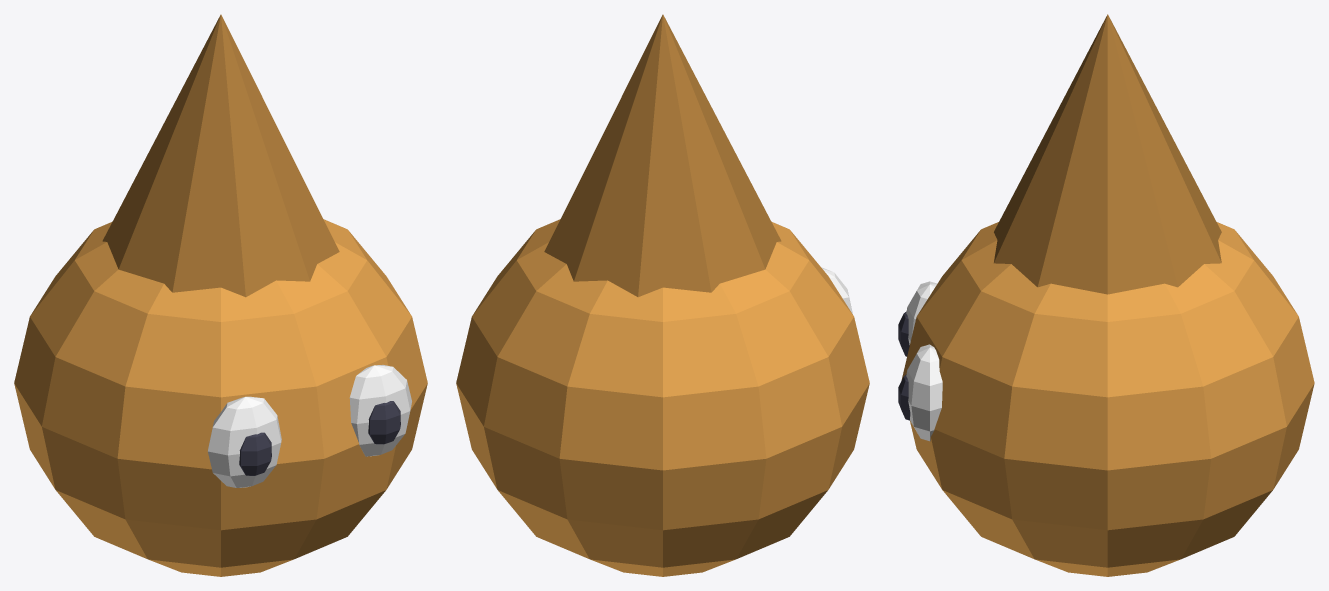
File: burnlet.glb
3 views of the same model, side by side, from view 1: azimuth 30°, elevation 25°; view 2: azimuth 150°, elevation 25°; view 3: azimuth 270°, elevation 25° (orthographic).
Parts seen in each view (by area): view 1: burnlet; view 2: burnlet; view 3: burnlet.
Boxes of the visible parts, box(x1,y1,x2,y2) form: burnlet: box(14, 14, 427, 576); burnlet: box(456, 14, 869, 576); burnlet: box(898, 14, 1314, 576).
Size of the model in its own units: 0.95 by 1.38 by 0.9559.
